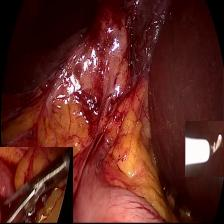Grasper: (0, 147, 73, 224)
Hook: (185, 121, 224, 177)
